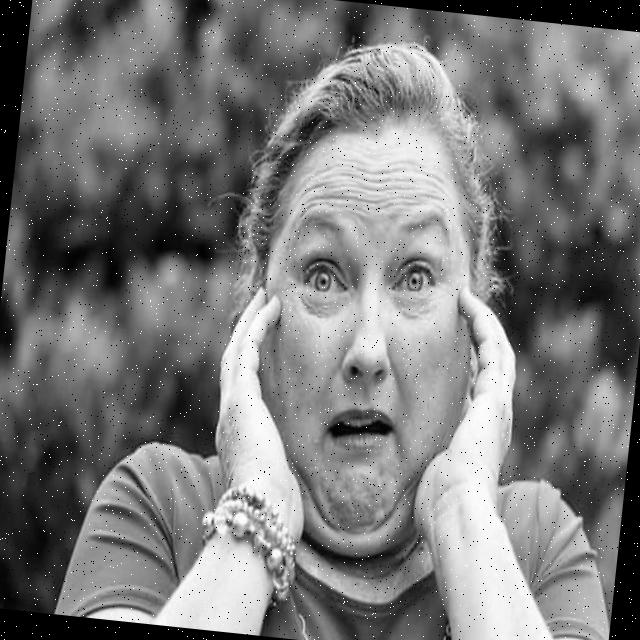Fear: (250, 121, 482, 565)
